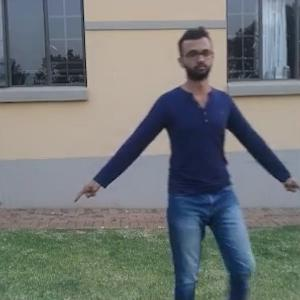land: (125, 61, 286, 299)
